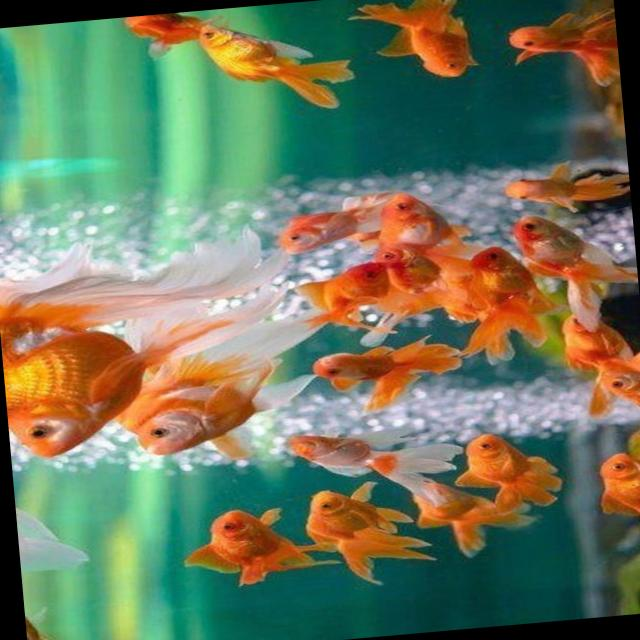GoldFish: (0, 228, 276, 468), (110, 292, 332, 458), (195, 0, 354, 124), (502, 198, 640, 329), (292, 475, 442, 592), (272, 414, 456, 496), (174, 496, 320, 598), (287, 333, 481, 408), (343, 0, 493, 91), (274, 258, 412, 348), (271, 183, 416, 259), (449, 423, 571, 510), (550, 301, 640, 418), (498, 6, 620, 89), (486, 158, 630, 212), (104, 9, 215, 76), (586, 444, 640, 540)
